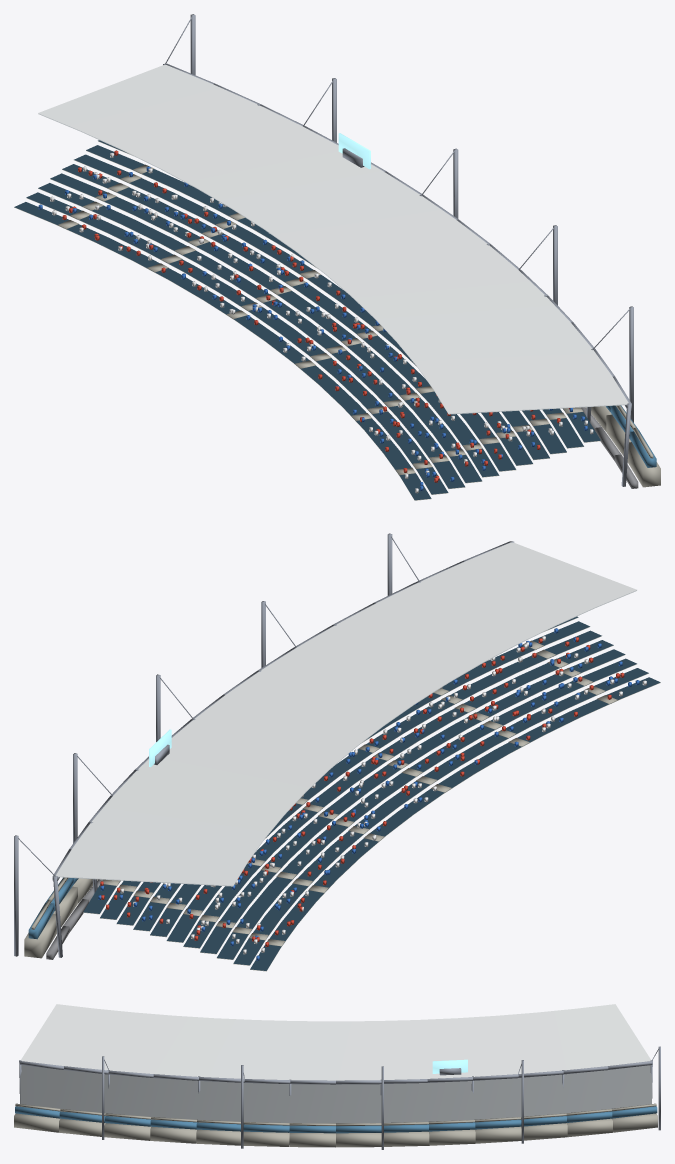
The model's file is eifel_mercedes_arena_amphitheater.glb.
The picture shows the model from 3 angles, top to bottom: view 1: azimuth 30°, elevation 25°; view 2: azimuth 150°, elevation 25°; view 3: azimuth 270°, elevation 25°; orthographic projection. The views are drawn at different scales.
Visible parts, largest first — view 1: Surface_roof, Surface_seat, Surface_concrete, Surface_steel, Surface_crowd_blue, Surface_crowd_white, Surface_crowd_red, Surface_roof_under, Surface_concrete_dark; view 2: Surface_roof, Surface_seat, Surface_concrete, Surface_steel, Surface_crowd_blue, Surface_crowd_red, Surface_crowd_white, Surface_roof_under, Surface_concrete_dark, Surface_glass; view 3: Surface_roof, Surface_roof_under, Surface_concrete, Surface_glass, Surface_steel, Surface_screen.
Boxes of the visible parts, x1,y1,x2,y2 form: Surface_roof: [38, 65, 628, 413]; Surface_seat: [14, 140, 600, 500]; Surface_concrete: [14, 141, 660, 500]; Surface_steel: [163, 14, 633, 486]; Surface_crowd_blue: [38, 166, 587, 490]; Surface_crowd_white: [50, 152, 593, 493]; Surface_crowd_red: [62, 150, 569, 482]; Surface_roof_under: [38, 113, 626, 414]; Surface_concrete_dark: [581, 407, 638, 488]; Surface_roof: [56, 542, 636, 885]; Surface_seat: [83, 616, 660, 970]; Surface_concrete: [24, 617, 660, 971]; Surface_steel: [14, 533, 514, 957]; Surface_crowd_blue: [98, 628, 639, 960]; Surface_crowd_red: [100, 637, 624, 946]; Surface_crowd_white: [120, 636, 646, 954]; Surface_roof_under: [58, 590, 636, 886]; Surface_concrete_dark: [46, 879, 102, 959]; Surface_glass: [28, 877, 78, 939]; Surface_roof: [21, 1004, 650, 1080]; Surface_roof_under: [20, 1065, 651, 1123]; Surface_concrete: [14, 1103, 657, 1147]; Surface_glass: [15, 1106, 657, 1133]; Surface_steel: [19, 1046, 660, 1149]; Surface_screen: [432, 1059, 467, 1073].
Size of the model in its own units: 55.19 by 24.02 by 164.
